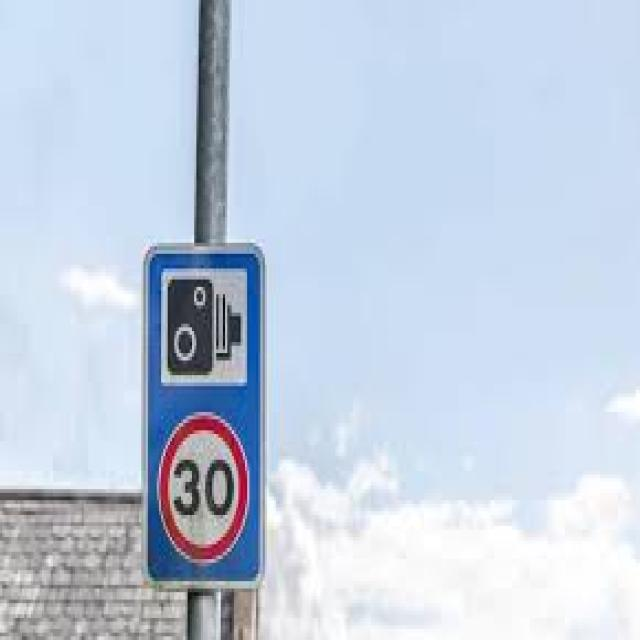Speed limit 30: (156, 409, 253, 564)
